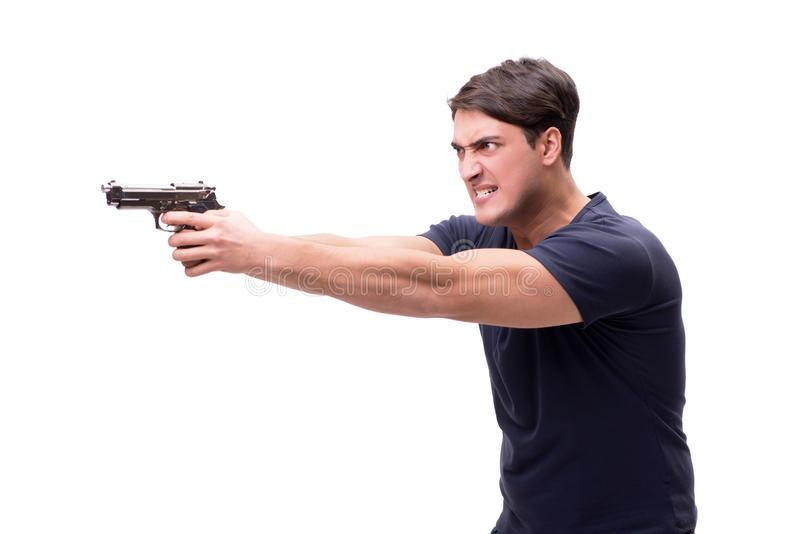criminal: (97, 54, 700, 534)
weapon: (98, 176, 225, 272)
